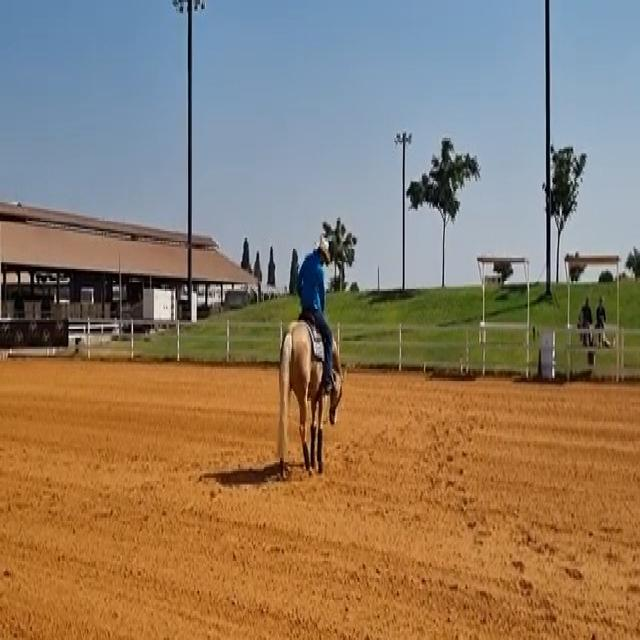horse: (275, 313, 344, 478)
